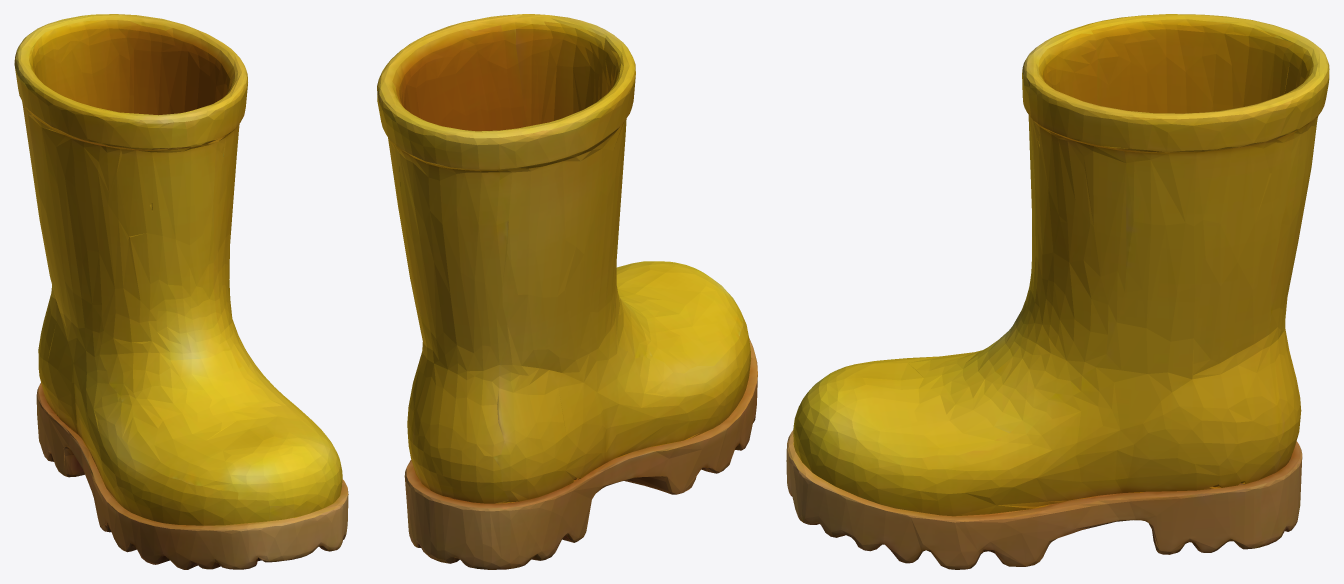
The model's file is yellow_rain_boot.glb.
3 views of the same model, side by side, from view 1: azimuth 30°, elevation 25°; view 2: azimuth 150°, elevation 25°; view 3: azimuth 270°, elevation 25° (orthographic). The views are drawn at different scales.
Parts seen in each view (by area): view 1: geometry_0; view 2: geometry_0; view 3: geometry_0.
Boxes of the visible parts, left/top/right/bottom form: geometry_0: left=14, top=14, right=348, bottom=569; geometry_0: left=377, top=14, right=757, bottom=569; geometry_0: left=786, top=14, right=1329, bottom=569.
Size of the model in its own units: 0.2103 by 0.4012 by 0.43.
1 material, 1 textured.
